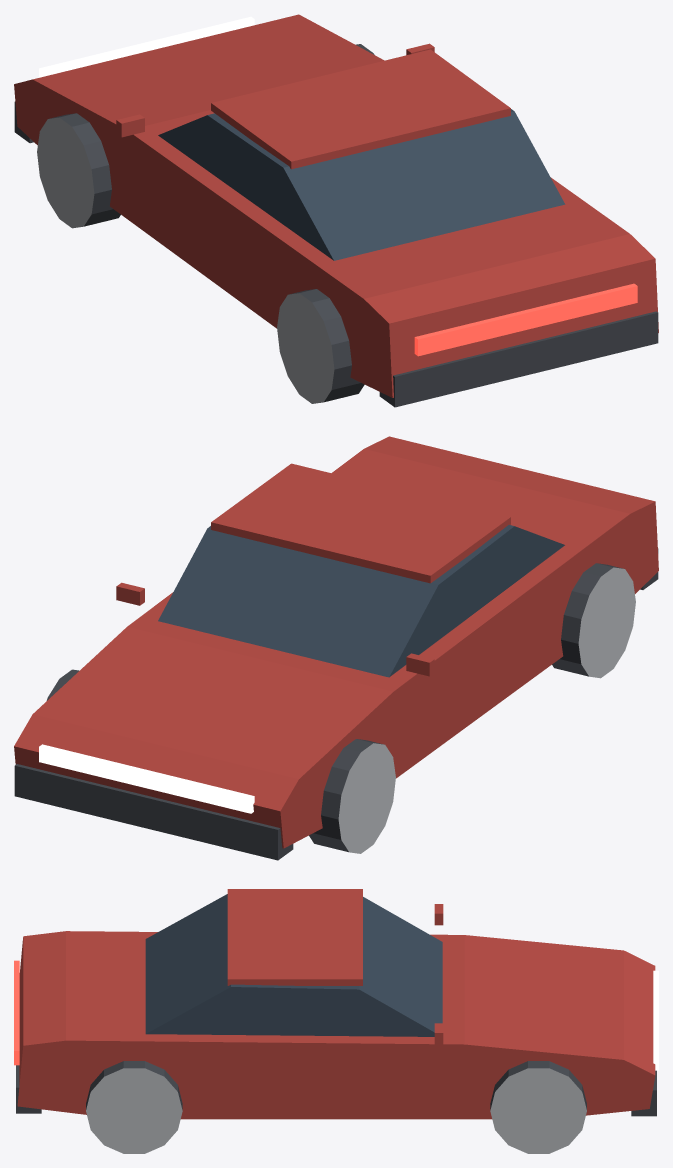
File: car_red.glb
3 views of the same model, one above another, from view 1: azimuth 30°, elevation 25°; view 2: azimuth 150°, elevation 25°; view 3: azimuth 270°, elevation 25° (orthographic). The views are drawn at different scales.
Parts seen in each view (by area): view 1: body, cabin, roof, wheel (×2), bumperR, taillights, headlights; view 2: body, cabin, roof, wheel (×2), bumperF, headlights; view 3: body, cabin, wheel (×2), roof, taillights, headlights.
Part boxes in pixels (bbox=[...]): body: bbox=[14, 14, 658, 397]; cabin: bbox=[158, 109, 565, 260]; roof: bbox=[211, 49, 510, 169]; wheel (×2): bbox=[37, 113, 364, 403]; bumperR: bbox=[379, 311, 658, 407]; taillights: bbox=[414, 283, 637, 356]; headlights: bbox=[39, 16, 254, 77]; body: bbox=[14, 436, 658, 848]; cabin: bbox=[158, 525, 564, 677]; roof: bbox=[211, 463, 510, 583]; wheel (×2): bbox=[309, 563, 635, 853]; bumperF: bbox=[14, 764, 293, 860]; headlights: bbox=[39, 744, 254, 813]; body: bbox=[17, 931, 655, 1119]; cabin: bbox=[145, 894, 442, 1036]; wheel (×2): bbox=[86, 1061, 586, 1153]; roof: bbox=[227, 889, 362, 985]; taillights: bbox=[14, 960, 19, 1065]; headlights: bbox=[653, 970, 658, 1070].
Bounding box in the file's own units: 2.14 × 1.22 × 4.53.
